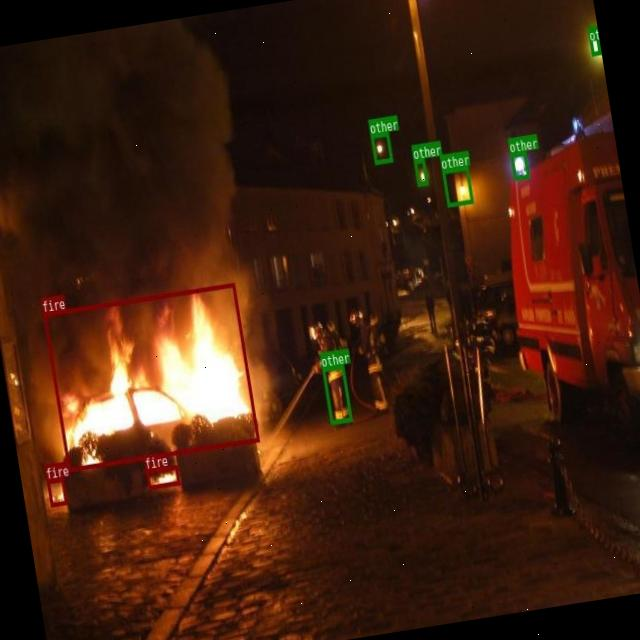fire: (42, 283, 260, 472), (145, 464, 180, 489), (46, 478, 66, 507)
